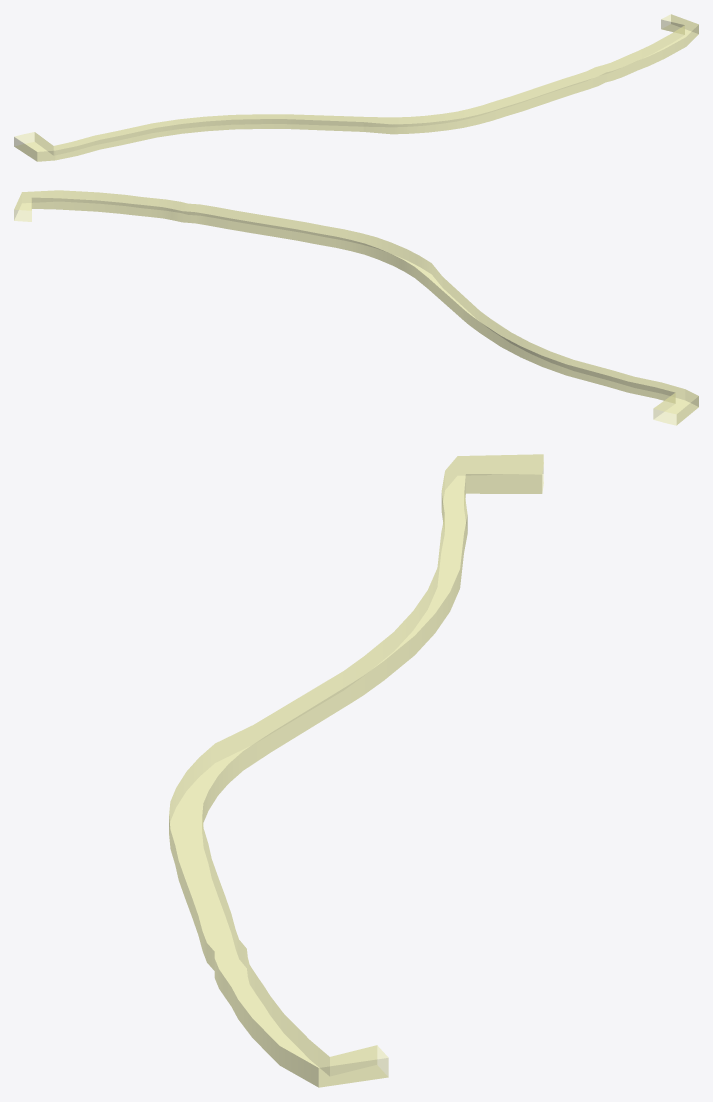
Rendered from honam_col.fbx.
3 views of the same model, one above another, from view 1: azimuth 30°, elevation 25°; view 2: azimuth 150°, elevation 25°; view 3: azimuth 270°, elevation 25° (orthographic). The views are drawn at different scales.
Visible parts, largest first — view 1: honam_land03; view 2: honam_land03; view 3: honam_land03.
Boxes of the visible parts, x1,y1,x2,y2 form: honam_land03: [14, 14, 698, 161]; honam_land03: [14, 190, 698, 425]; honam_land03: [169, 454, 543, 1087].
Bounding box in the file's own units: 13.36 × 0.2 × 3.45.
